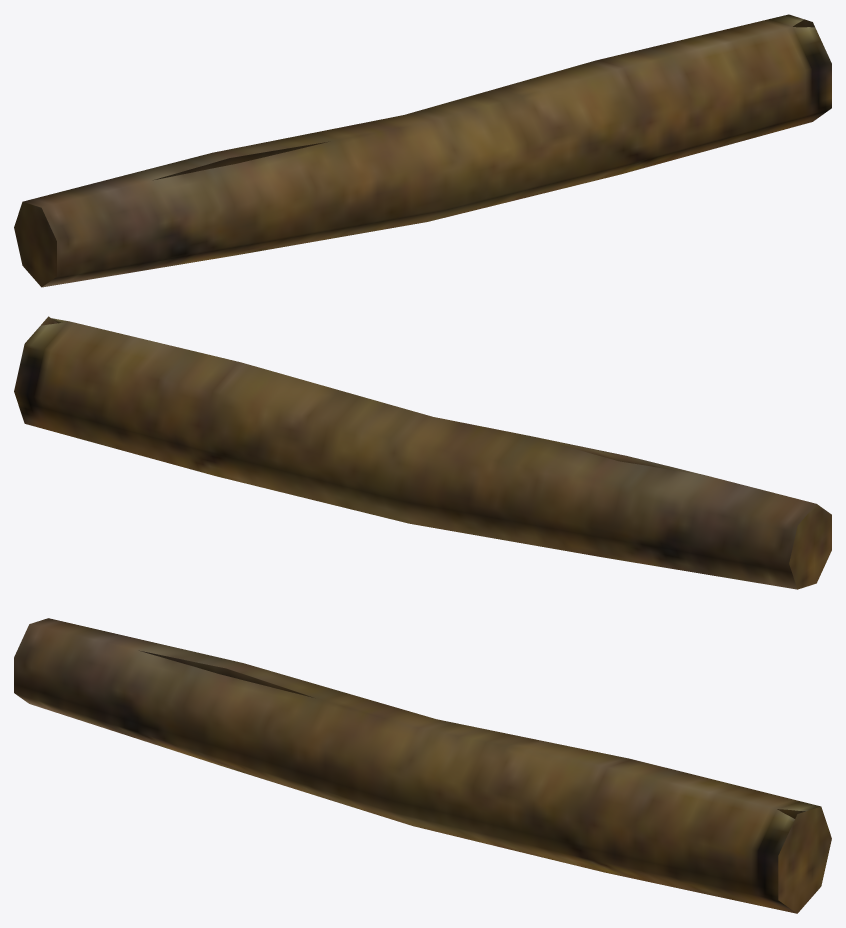
File: backwood.FBX
The picture shows the model from 3 angles, top to bottom: view 1: azimuth 30°, elevation 25°; view 2: azimuth 150°, elevation 25°; view 3: azimuth 330°, elevation 25°; orthographic projection.
Parts seen in each view (by area): view 1: backwood; view 2: backwood; view 3: backwood.
Boxes of the visible parts, box(x1,y1,x2,y2) form: backwood: box(14, 14, 831, 287); backwood: box(14, 316, 831, 589); backwood: box(14, 618, 831, 913).
Size of the model in its own units: 9.1 by 1.23 by 1.16.
